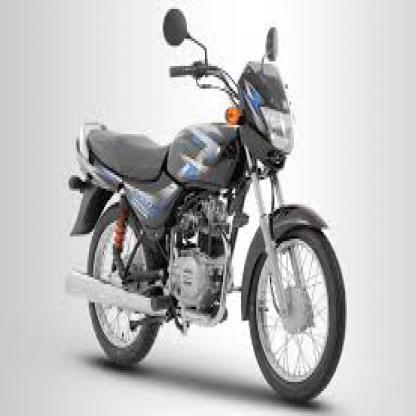Motorcycle: (60, 0, 350, 402)
